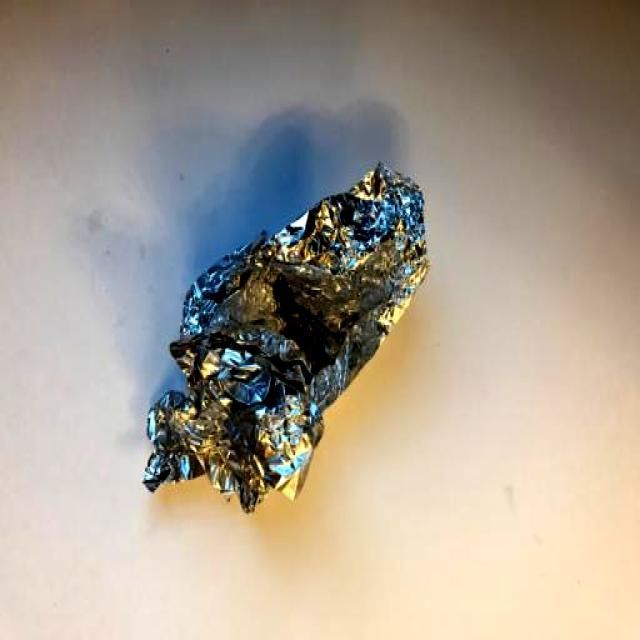Metal: (148, 169, 426, 516)
